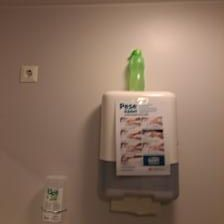bottle: (122, 45, 146, 96)
